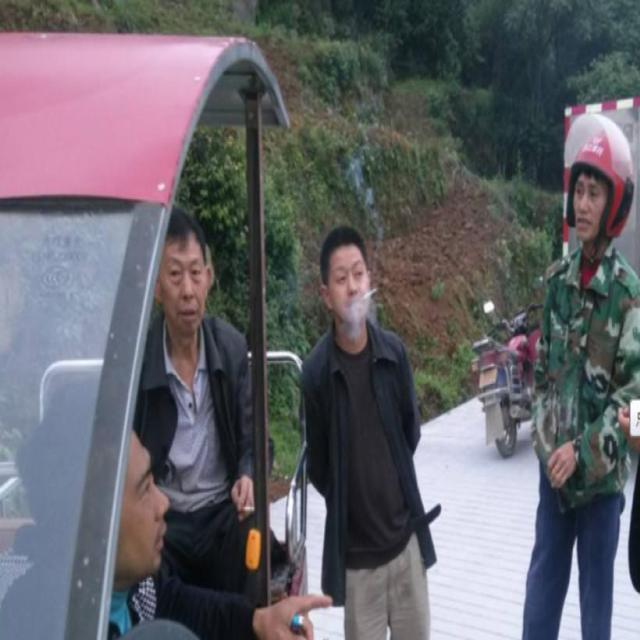cigarette: (354, 280, 386, 312)
